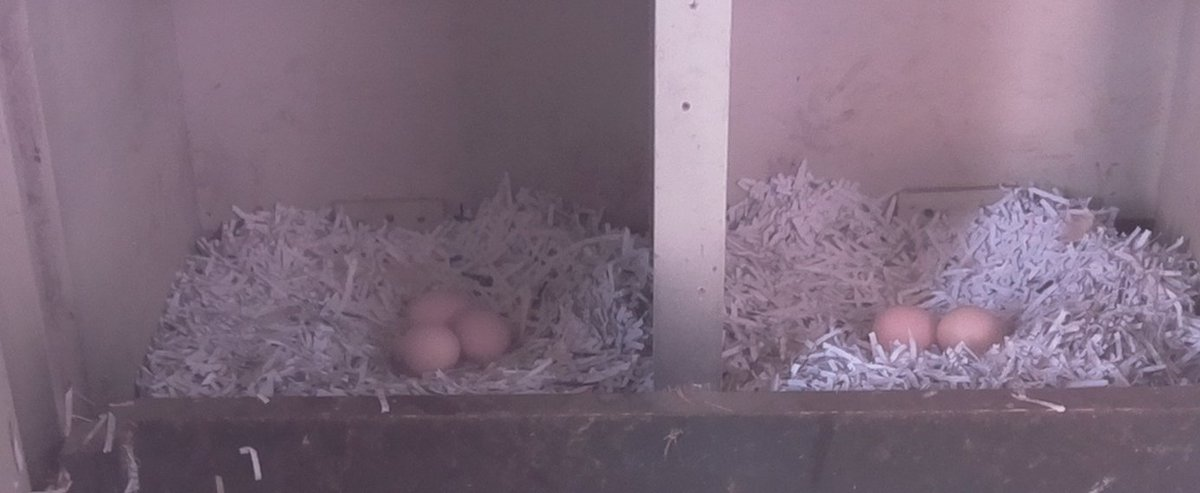egg: (396, 320, 463, 378), (867, 302, 940, 355), (931, 305, 1007, 355), (455, 306, 514, 366), (395, 289, 473, 321)
